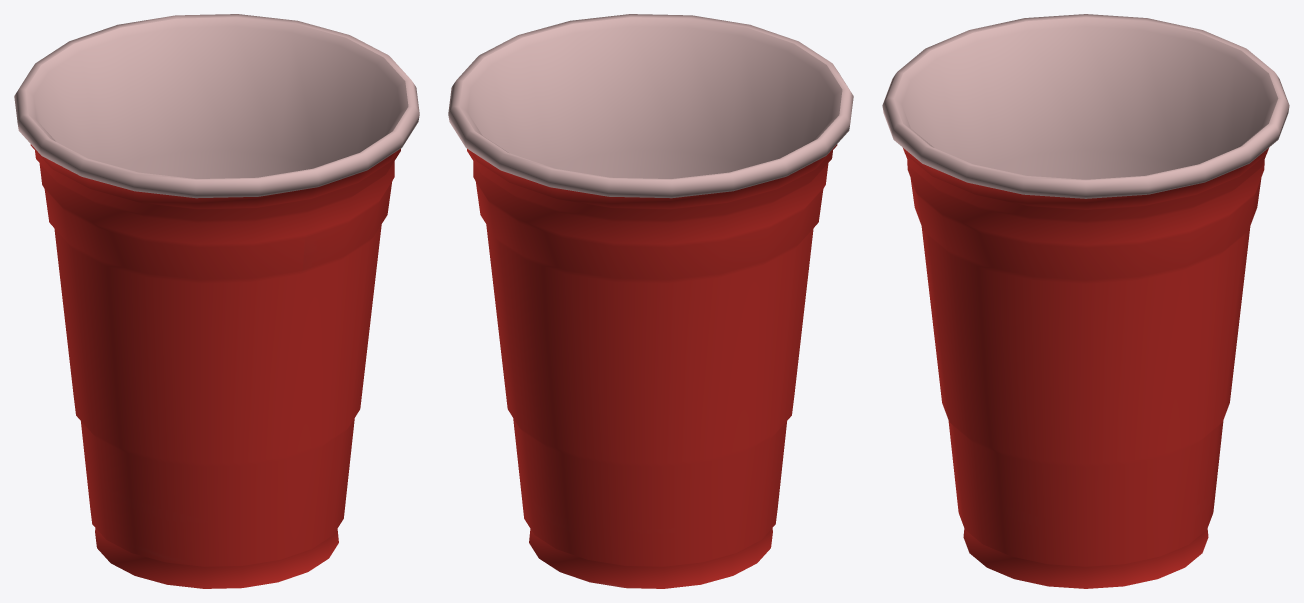
File: BeerCupTest.glb
3 views of the same model, side by side, from view 1: azimuth 30°, elevation 25°; view 2: azimuth 150°, elevation 25°; view 3: azimuth 270°, elevation 25° (orthographic).
Visible parts, largest first — view 1: BeerCup_01; view 2: BeerCup_01; view 3: BeerCup_01.
Part boxes in pixels (x1,y1,x2,y2): BeerCup_01: (14, 14, 419, 588); BeerCup_01: (448, 14, 853, 588); BeerCup_01: (882, 14, 1289, 588).
Bounding box in the file's own units: 4.87 × 5.8 × 4.87.
Materials: 1 (1 with a texture image).
